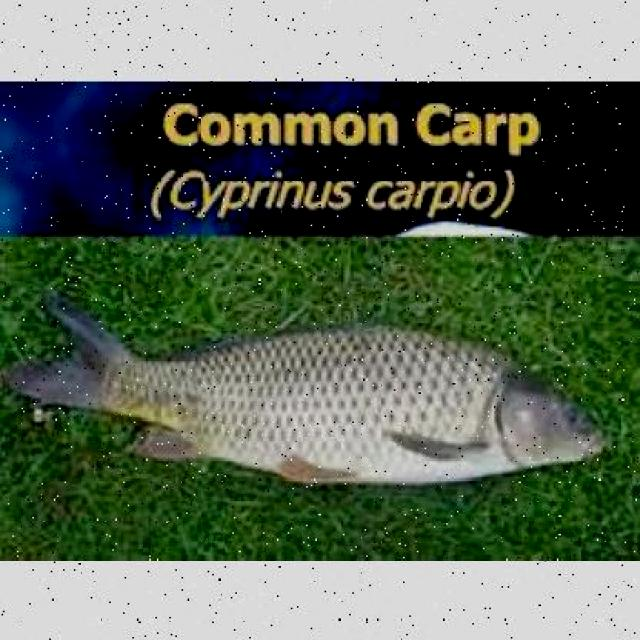ikan-mas: (22, 302, 615, 495)
